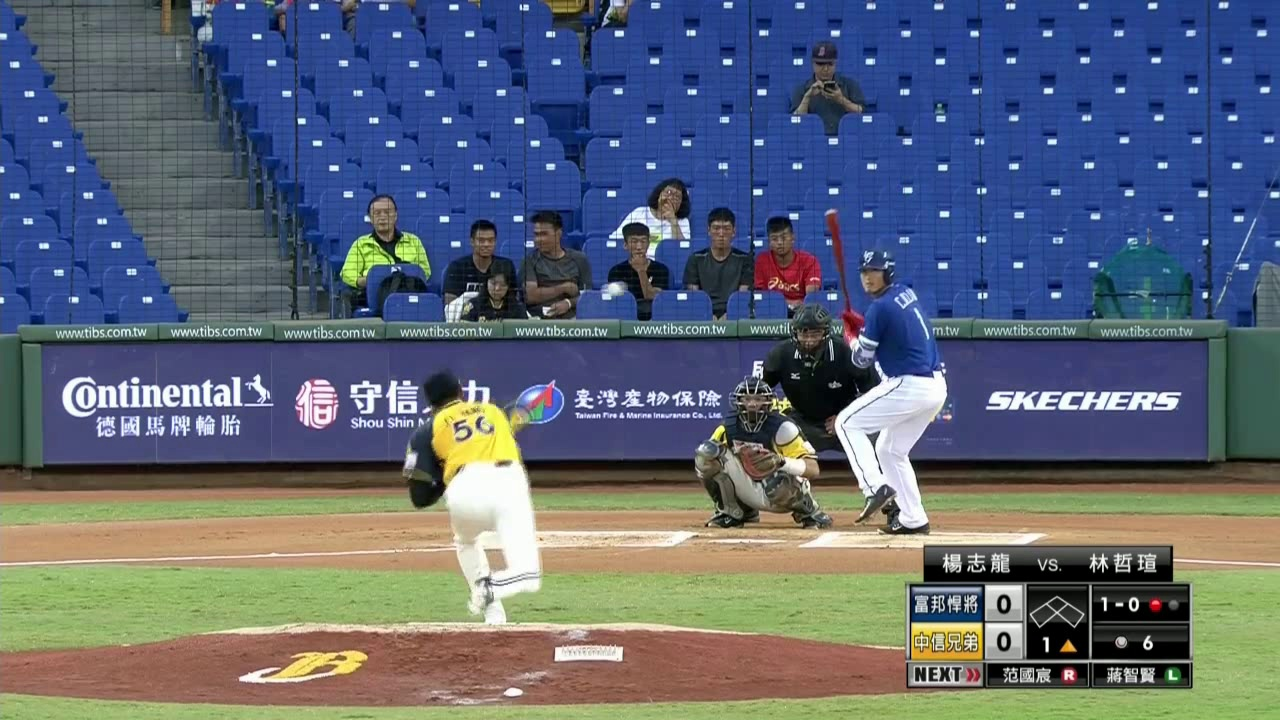ball: (605, 280, 626, 297)
base: (1029, 593, 1087, 628)
bat: (822, 207, 855, 316)
out: (1144, 595, 1184, 614)
score1: (985, 584, 1022, 621)
score2: (985, 623, 1022, 658)
session: (1040, 634, 1080, 654)
strikeball: (1098, 593, 1140, 614)
total: (1107, 631, 1161, 653)
